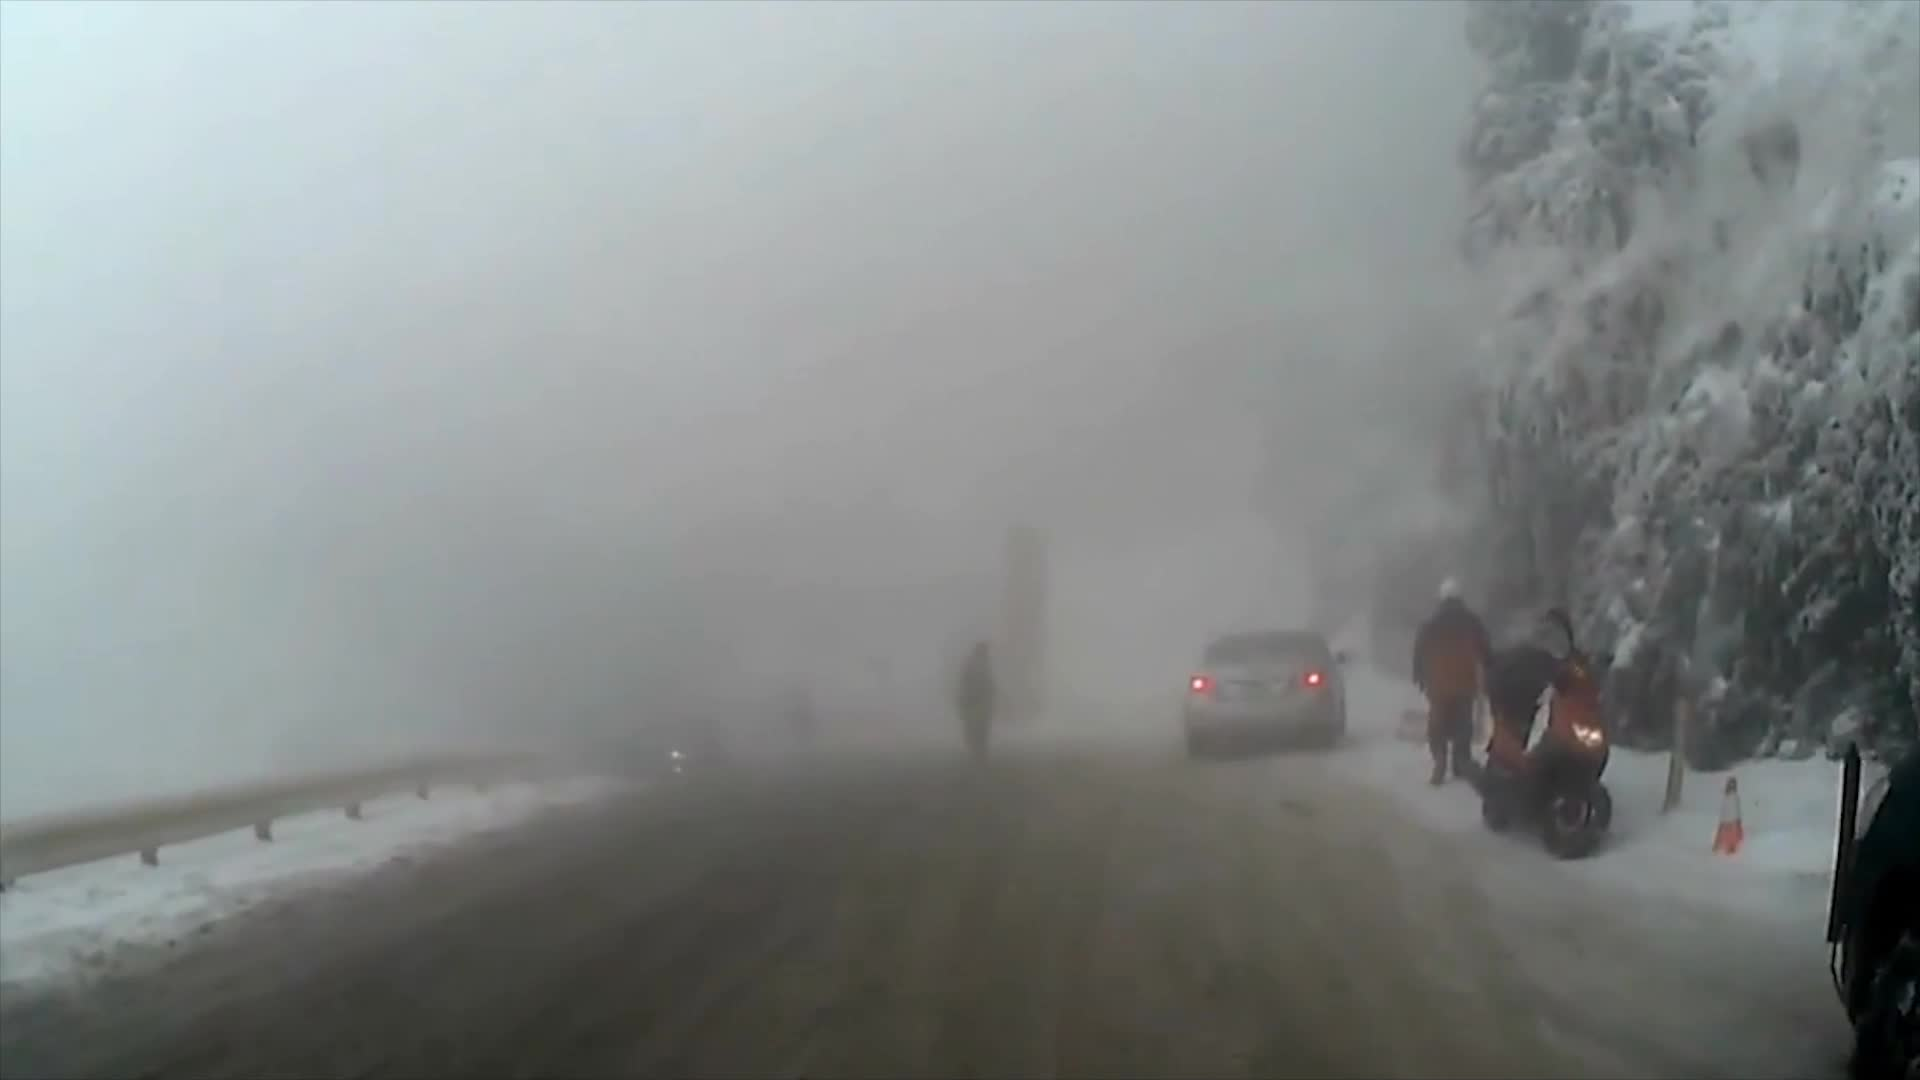pedestrian: (1409, 568, 1499, 789), (953, 637, 997, 776)
vehicle: (1820, 706, 1918, 1079), (1178, 624, 1349, 758)
